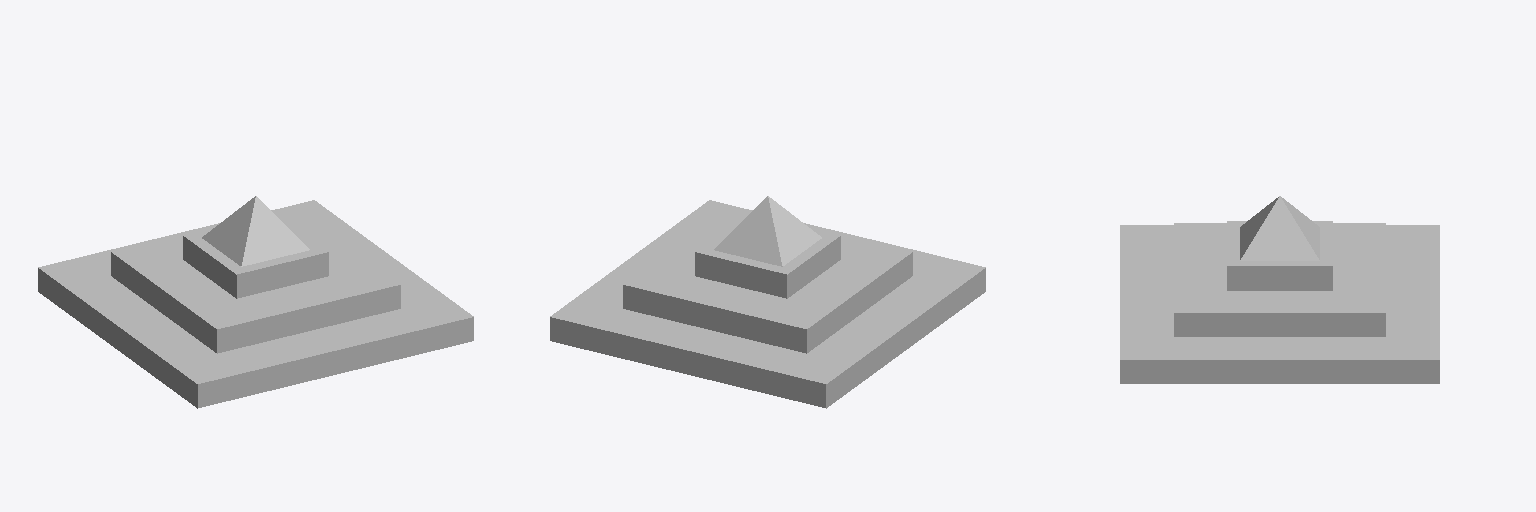
File: piramide.obj
The picture shows the model from 3 angles: view 1: azimuth 30°, elevation 25°; view 2: azimuth 150°, elevation 25°; view 3: azimuth 270°, elevation 25°; orthographic projection.
Visible parts, largest first — view 1: Cube.008; view 2: Cube.008; view 3: Cube.008.
Part boxes in pixels (bbox=[...]): Cube.008: bbox=[38, 196, 473, 408]; Cube.008: bbox=[550, 196, 985, 408]; Cube.008: bbox=[1120, 196, 1439, 383].
Size of the model in its own units: 0.6118 by 0.2549 by 0.6118.